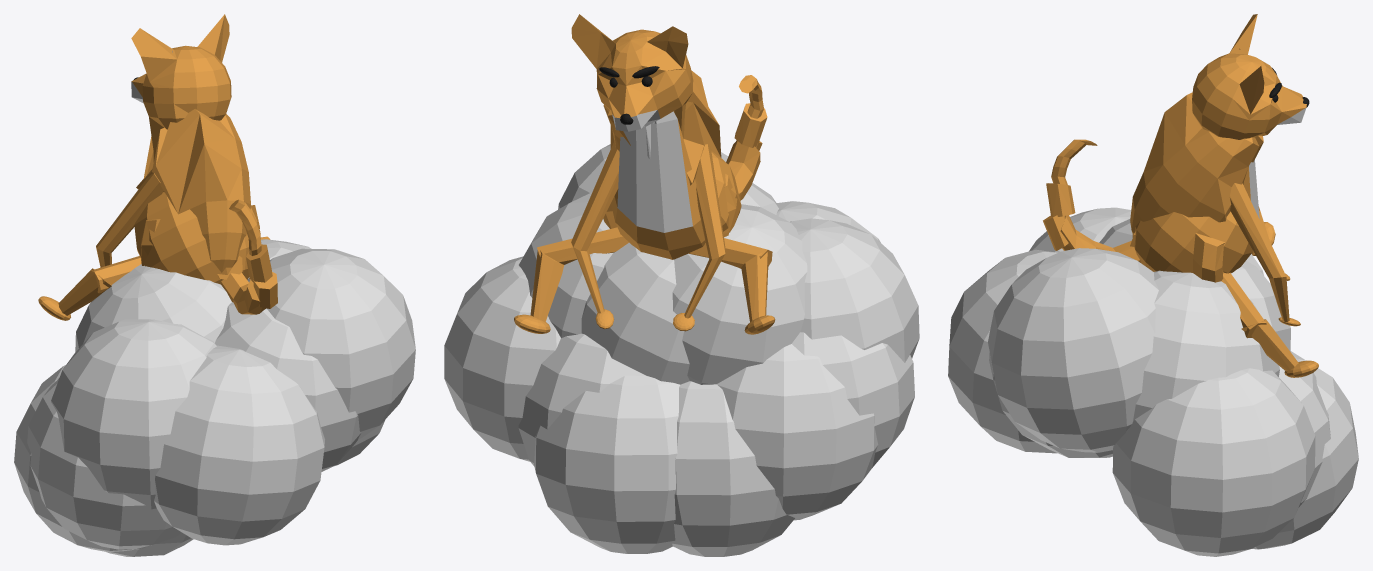
File: scene_Xk4DllyuTy.glb
The picture shows the model from 3 angles, left to right: view 1: azimuth 30°, elevation 25°; view 2: azimuth 150°, elevation 25°; view 3: azimuth 270°, elevation 25°; orthographic projection. The views are drawn at different scales.
Parts seen in each view (by area): view 1: Node; view 2: Node; view 3: Node.
Boxes of the visible parts, x1=… form: Node: x1=14, y1=14, x2=415, y2=556; Node: x1=444, y1=14, x2=919, y2=556; Node: x1=948, y1=14, x2=1358, y2=556.
Bounding box in the file's own units: 1.25 × 1.56 × 1.14.
